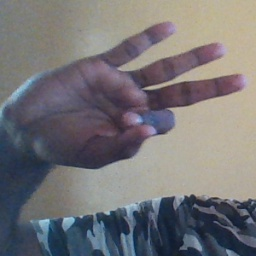K: (6, 19, 243, 171)
